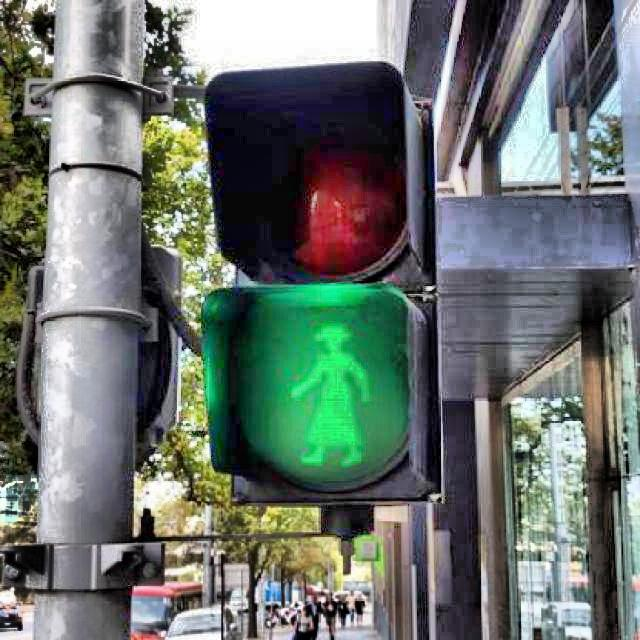semaforo pedestre: (113, 16, 555, 608)
